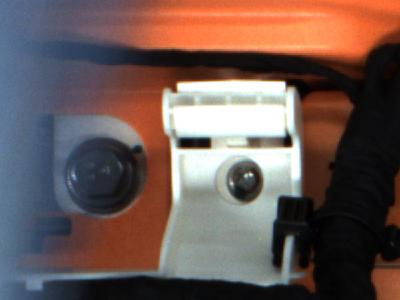nut_b: (58, 134, 154, 225)
